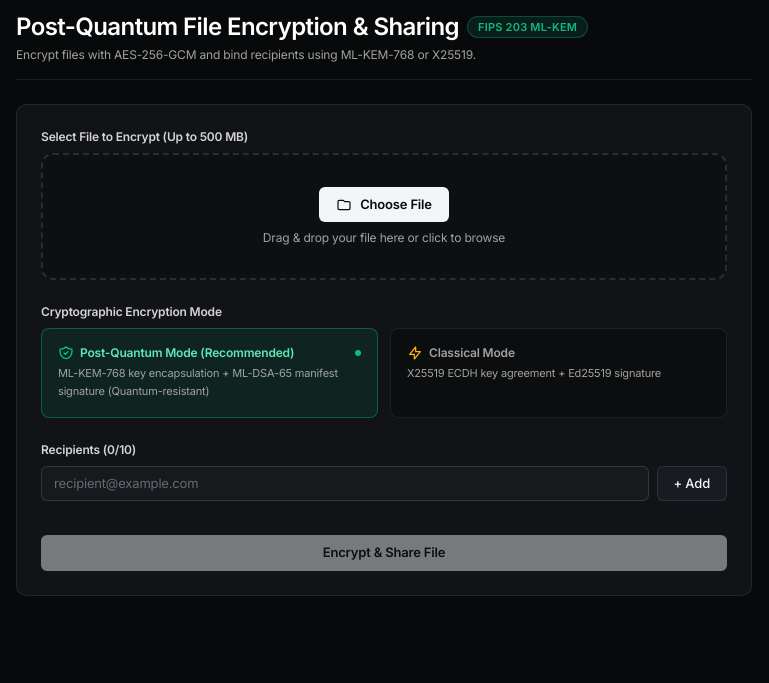
Scenario: FileUpload Component › validates invalid recipient email address
Type "invalid-email-address" into the field labelled "Recipients (0/10)".
click(345, 484); type("invalid-email-address")  # box [41, 466, 648, 501]
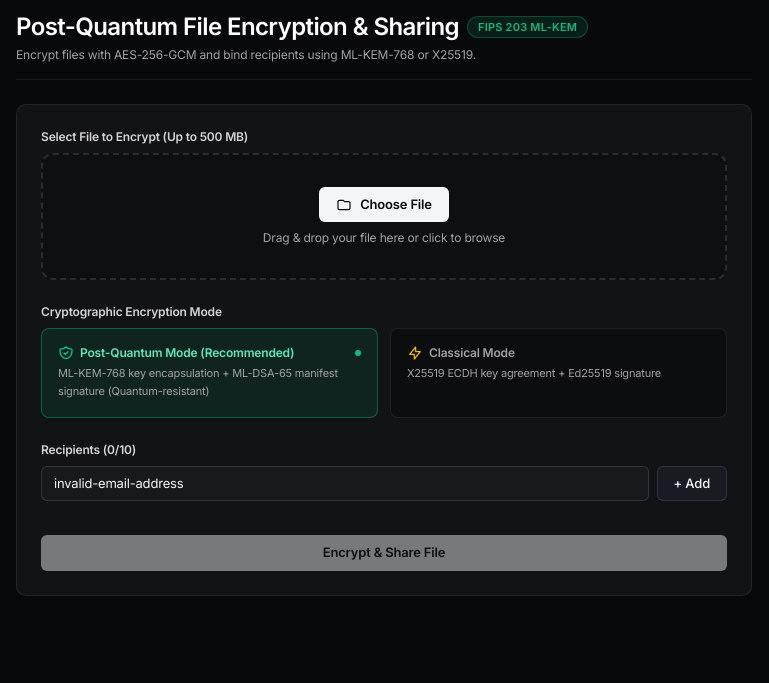
Click the button "+ Add".
click(692, 484)  # box [656, 466, 727, 501]
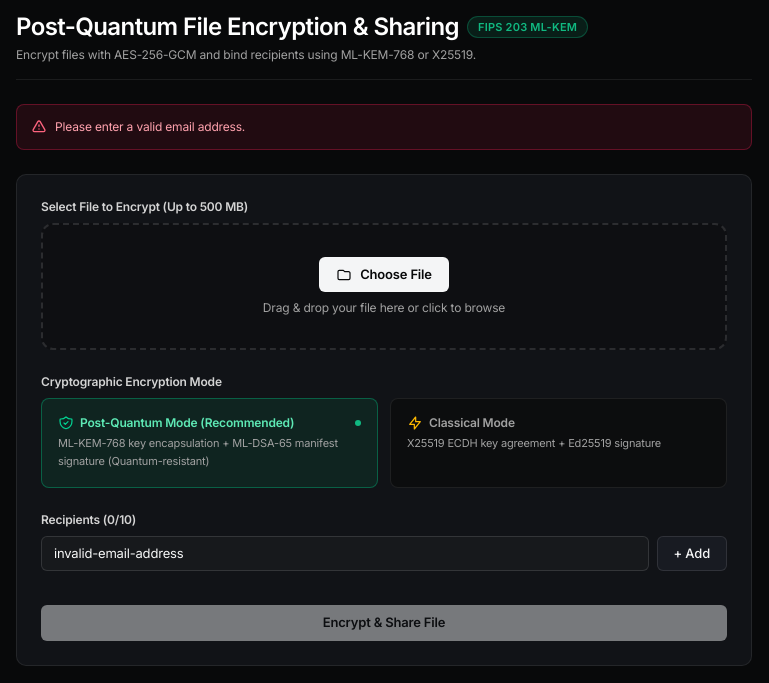
Expected: the text "Please enter a valid email address." is shown, [55, 119, 245, 135]
